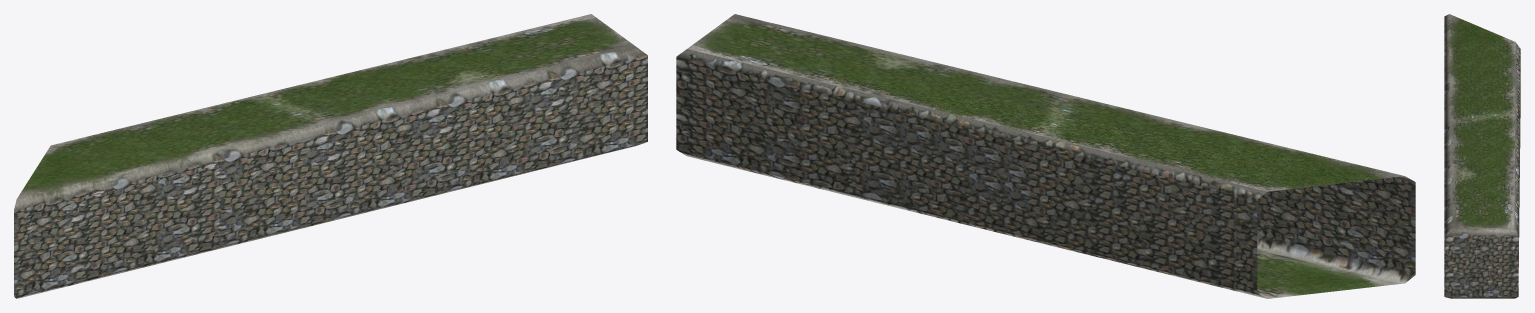
File: Temple_Wall_Cap_Long_01.fbx
The picture shows the model from 3 angles, left to right: view 1: azimuth 30°, elevation 25°; view 2: azimuth 150°, elevation 25°; view 3: azimuth 270°, elevation 25°; orthographic projection. The views are drawn at different scales.
Parts seen in each view (by area): view 1: polySurface4; view 2: polySurface4; view 3: polySurface4.
Boxes of the visible parts, x1,y1,x2,y2 form: polySurface4: (14, 14, 647, 298); polySurface4: (676, 14, 1415, 298); polySurface4: (1444, 14, 1520, 298).
Size of the model in its own units: 8.16 by 1.23 by 1.2.
Materials: 1 (1 with a texture image).
